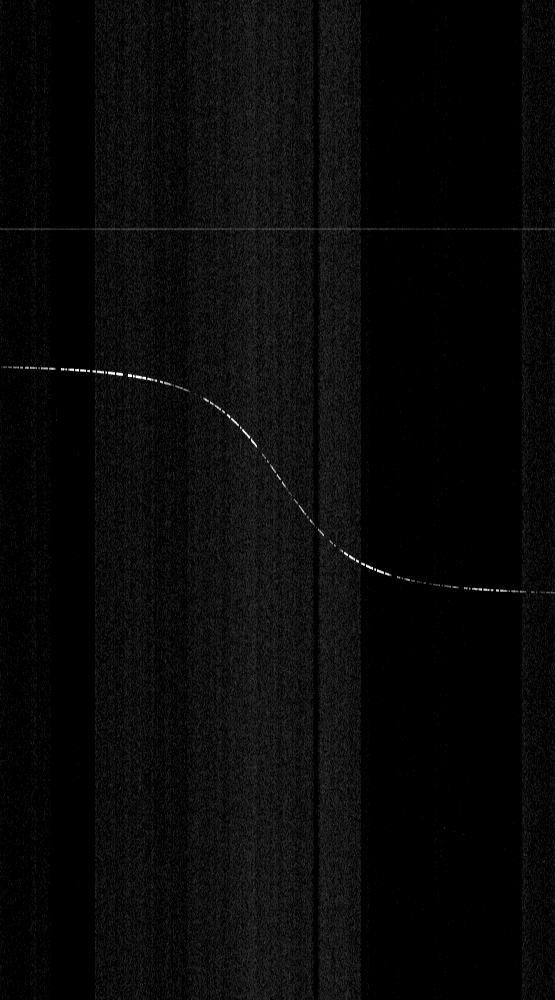signal: (0, 0, 554, 999)
